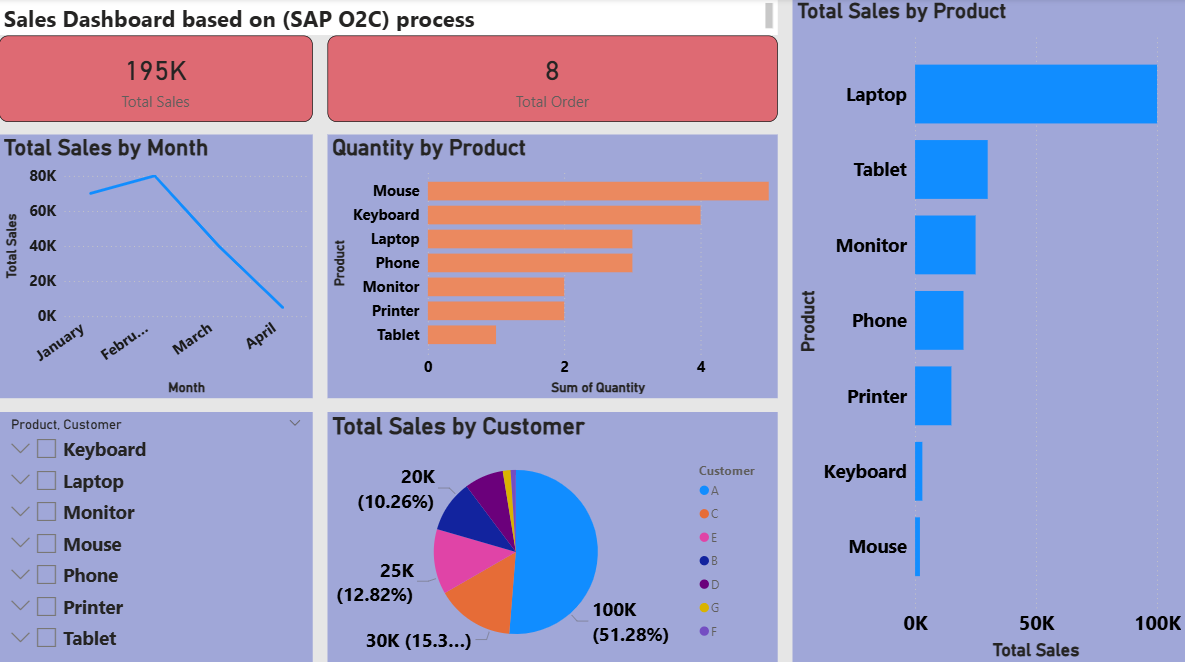

What the dashboard file says about the page in this screenshot:
{"tool":"powerbi","page":{"name":"Page 1","canvas":[1280,720],"ordinal":0},"visuals":[{"type":"card","fields":{"Values":["sales_data.Total Sales"]},"box":[0,39.8,338.6,93.6],"z":0},{"type":"card","fields":{"Values":["sales_data.Total Order"]},"box":[354.5,39.8,486,93.6],"z":1},{"type":"clusteredBarChart","fields":{"Category":["sales_data.Product"],"Y":["sales_data.Total Sales"]},"box":[856.4,0,424.2,719],"z":2},{"type":"lineChart","fields":{"Category":["sales_data.Date.Variation.Date Hierarchy.Month"],"Y":["sales_data.Total Sales"]},"box":[0,147.4,338.6,284.8],"z":3},{"type":"pieChart","fields":{"Category":["sales_data.Customer"],"Y":["sales_data.Total Sales"]},"box":[354.5,446.1,486,272.9],"z":4},{"type":"clusteredBarChart","title":"Quantity by Product","fields":{"Category":["sales_data.Product"],"Y":["Sum(sales_data.Quantity)"]},"box":[354.5,147.4,486,284.8],"z":5},{"type":"slicer","fields":{"Values":["sales_data.Product","sales_data.Customer"]},"box":[0,446.1,338.6,272.9],"z":6},{"type":"actionButton","box":[0,0,100,40],"z":7},{"type":"textbox","box":[0,0,840.5,39.8],"z":8}]}

Visuals, with their boxes in screenshot pixels (x1, y1, x2, y2), scaled from the page's 1280x720 canvas onto the 1185x662 screenshot:
card - sales_data.Total Sales: bbox=(0, 37, 313, 123)
card - sales_data.Total Order: bbox=(328, 37, 778, 123)
clusteredBarChart - sales_data.Product x sales_data.Total Sales: bbox=(793, 0, 1184, 661)
lineChart - sales_data.Date.Variation.Date Hierarchy.Month x sales_data.Total Sales: bbox=(0, 136, 313, 397)
pieChart - sales_data.Customer x sales_data.Total Sales: bbox=(328, 410, 778, 661)
"Quantity by Product" clusteredBarChart: bbox=(328, 136, 778, 397)
slicer - sales_data.Product x sales_data.Customer: bbox=(0, 410, 313, 661)
actionButton: bbox=(0, 0, 93, 37)
textbox: bbox=(0, 0, 778, 37)
